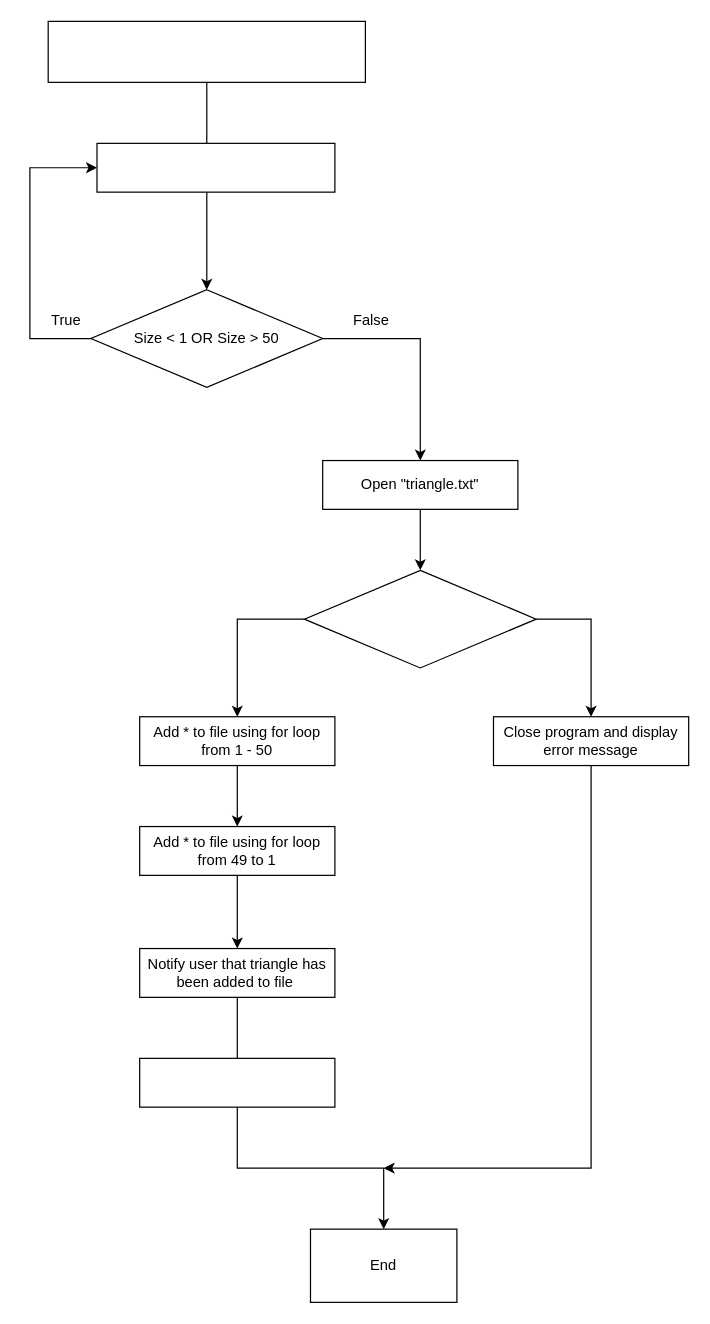
The diagram is 710 pixels wide and 1324 high, and some of its shapes have lost their labels. The shapes that lost their labels are listed below. From the top down, each one's centre as x and y in pixels, then its label:
the point at 206,51: Start
the point at 215,167: Prompt user for size of triangle
the point at 419,618: File opened?
the point at 236,1082: close file
